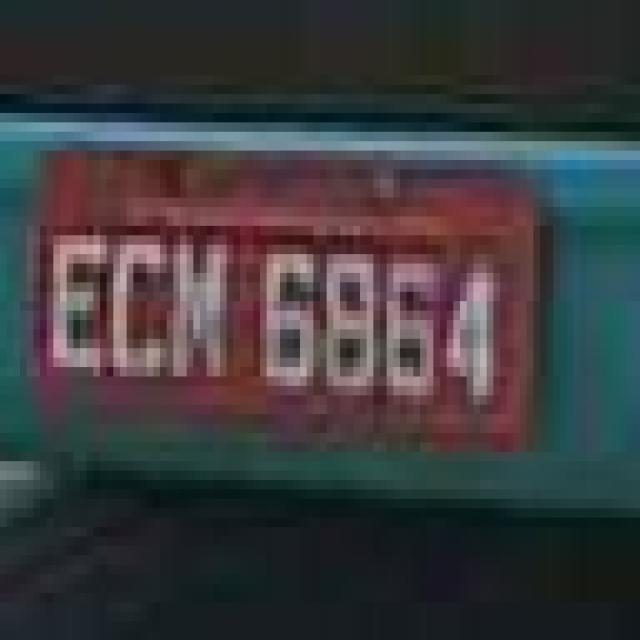4: (444, 256, 489, 406)
6: (381, 245, 440, 419), (257, 240, 317, 396)
8: (320, 245, 382, 406)
C: (103, 228, 173, 381)
E: (48, 230, 106, 376)
M: (171, 236, 235, 378)
